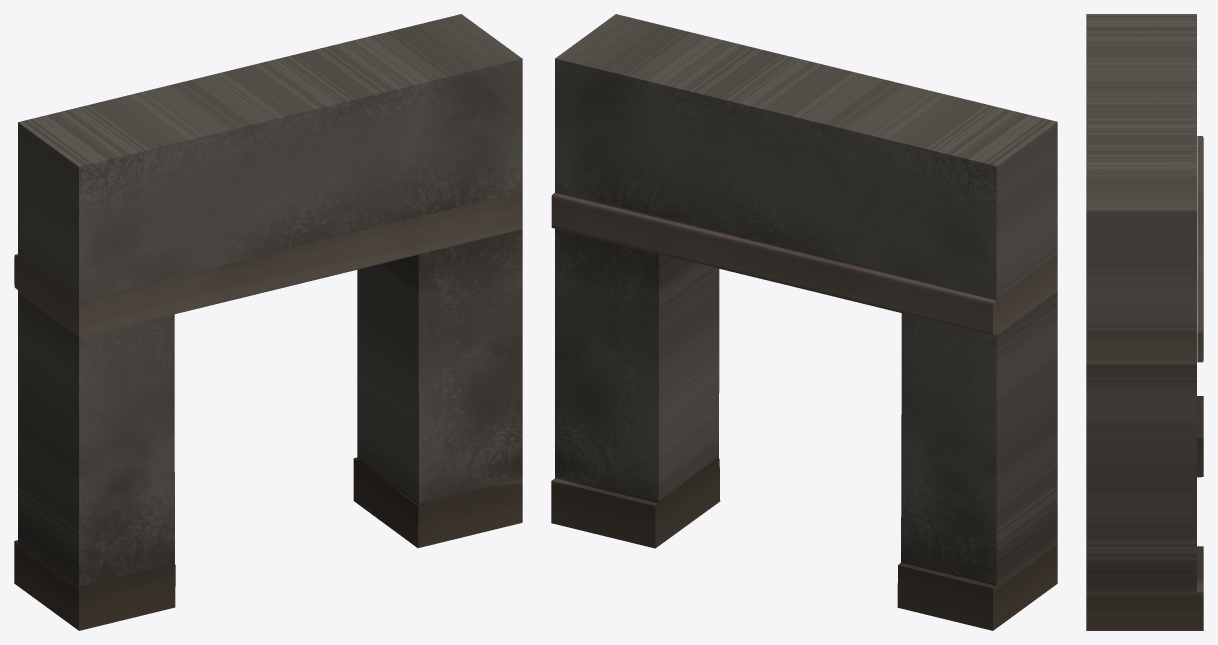
Rendered from Wall_4_M_Door.fbx.
3 renders of one model, left to right at view 1: azimuth 30°, elevation 25°; view 2: azimuth 150°, elevation 25°; view 3: azimuth 270°, elevation 25°, orthographic. The views are drawn at different scales.
Parts seen in each view (by area): view 1: Wall_4_M_Door; view 2: Wall_4_M_Door; view 3: Wall_4_M_Door.
Part boxes in pixels (x1,y1,x2,y2): Wall_4_M_Door: (14, 14, 522, 630); Wall_4_M_Door: (551, 14, 1057, 630); Wall_4_M_Door: (1086, 14, 1203, 630).
Bounding box in the file's own units: 4 × 4 × 1.01.
